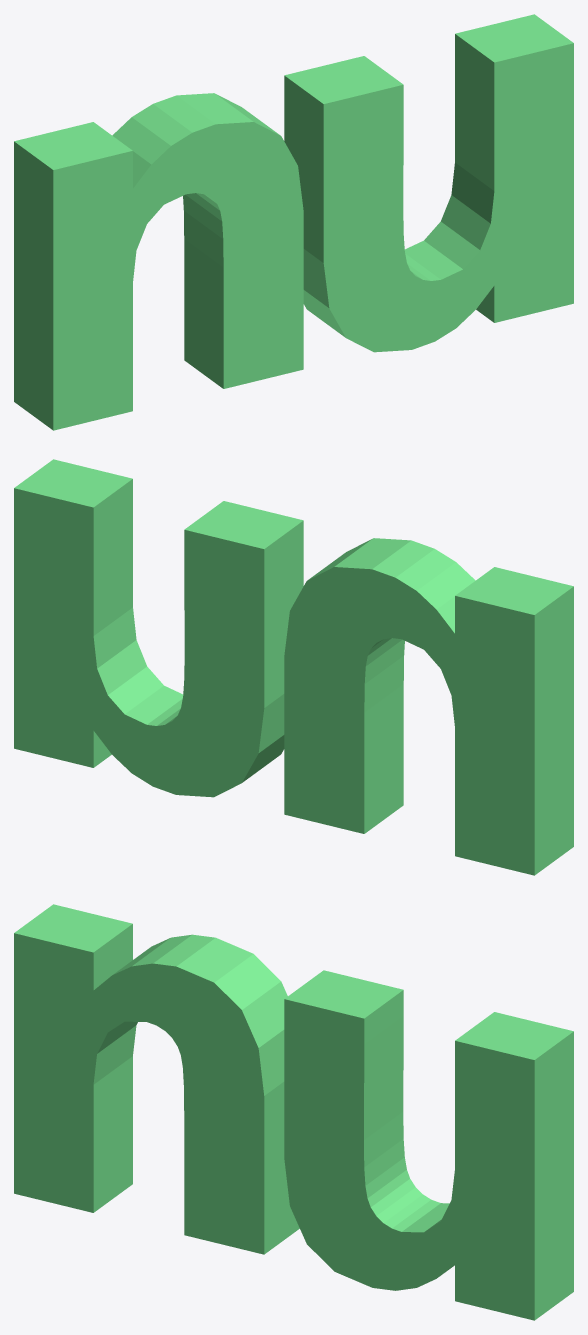
The model's file is suku_kecil_nu.glb.
3 views of the same model, one above another, from view 1: azimuth 30°, elevation 25°; view 2: azimuth 150°, elevation 25°; view 3: azimuth 330°, elevation 25° (orthographic).
Parts seen in each view (by area): view 1: geometry_0; view 2: geometry_0; view 3: geometry_0.
Boxes of the visible parts, box(x1,y1,x2,y2) form: geometry_0: box(14, 14, 573, 430); geometry_0: box(14, 459, 573, 875); geometry_0: box(14, 904, 573, 1320).
Bounding box in the file's own units: 11.44 × 5.74 × 1.5.
